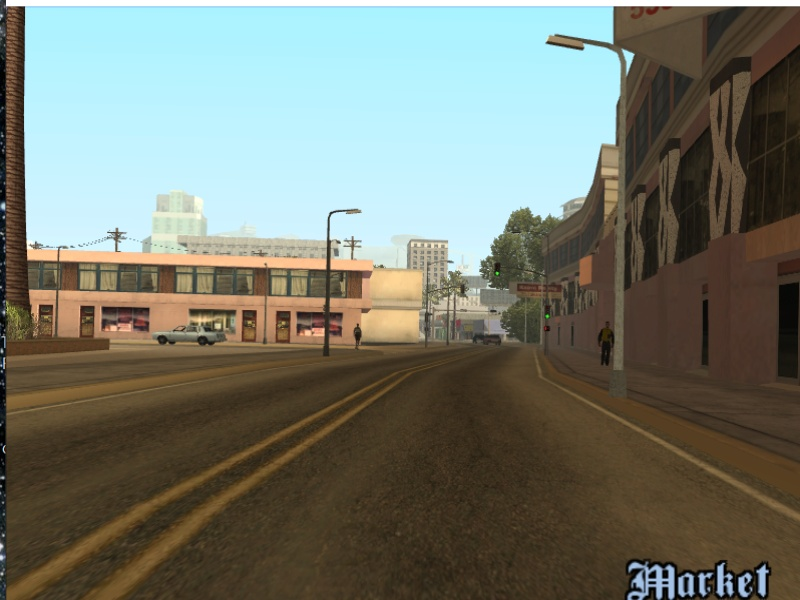person: (597, 320, 613, 367), (351, 322, 364, 349)
pole: (612, 50, 633, 399), (322, 210, 339, 359), (424, 289, 433, 348)
vehicle: (154, 322, 229, 348), (483, 333, 502, 347)
